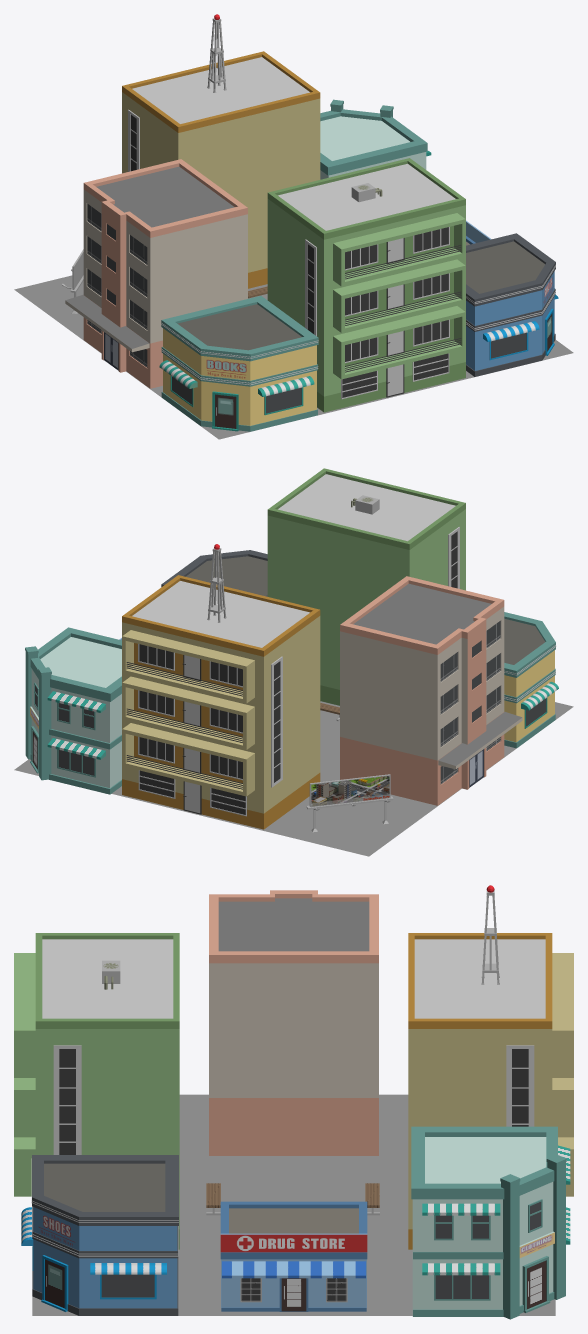
The model's file is shops.glb.
3 views of the same model, one above another, from view 1: azimuth 30°, elevation 25°; view 2: azimuth 150°, elevation 25°; view 3: azimuth 270°, elevation 25° (orthographic). The views are drawn at different scales.
Visible parts, largest first — view 1: Building_Residential_color01_Cube.013; view 2: Building_Residential_color01_Cube.013; view 3: Building_Residential_color01_Cube.013.
Boxes of the visible parts, x1,y1,x2,y2 form: Building_Residential_color01_Cube.013: [14, 14, 573, 439]; Building_Residential_color01_Cube.013: [14, 468, 573, 856]; Building_Residential_color01_Cube.013: [14, 885, 573, 1319].
Size of the model in its own units: 43.15 by 26.95 by 42.78.
Materials: 12 (12 with a texture image).
